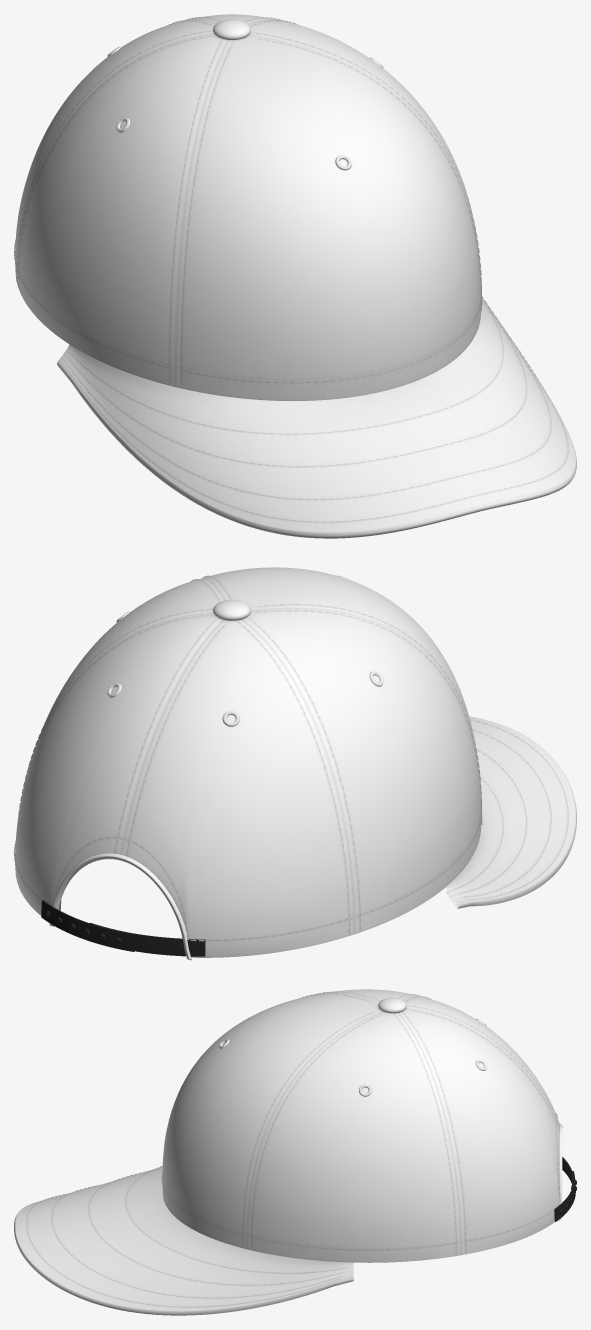
File: gomos-5-6.glb
The picture shows the model from 3 angles, top to bottom: view 1: azimuth 30°, elevation 25°; view 2: azimuth 150°, elevation 25°; view 3: azimuth 270°, elevation 25°; orthographic projection. The views are drawn at different scales.
Visible parts, largest first — view 1: frente, aba, laterais, traseira, costura-aba, aba__beirada, costura-laterais, costura-frente, costura-traseira; view 2: traseira, laterais, aba, frente, fixo__regulador, costura-traseira, costura-laterais, costura-aba, traseira__vies, aba__beirada, botao, costura-frente; view 3: laterais, aba, frente, traseira, costura-aba, aba__beirada, costura-laterais, costura-traseira, costura-frente, fixo__regulador.
Boxes of the visible parts, bbox=[...] form: frente: bbox=[175, 35, 480, 400]; aba: bbox=[58, 300, 575, 533]; laterais: bbox=[18, 20, 480, 386]; traseira: bbox=[15, 14, 276, 285]; costura-aba: bbox=[68, 296, 568, 523]; aba__beirada: bbox=[57, 361, 576, 538]; costura-laterais: bbox=[18, 20, 482, 381]; costura-frente: bbox=[180, 38, 481, 384]; costura-traseira: bbox=[14, 17, 280, 281]; traseira: bbox=[15, 613, 354, 957]; laterais: bbox=[31, 578, 480, 933]; aba: bbox=[446, 716, 575, 903]; frente: bbox=[202, 567, 480, 796]; fixo__regulador: bbox=[41, 900, 205, 956]; costura-traseira: bbox=[14, 614, 352, 941]; costura-laterais: bbox=[22, 579, 482, 930]; costura-aba: bbox=[453, 719, 568, 900]; traseira__vies: bbox=[49, 853, 191, 960]; aba__beirada: bbox=[457, 775, 576, 908]; botao: bbox=[213, 599, 250, 620]; costura-frente: bbox=[202, 575, 481, 819]; laterais: bbox=[247, 989, 460, 1262]; aba: bbox=[15, 1167, 353, 1311]; frente: bbox=[162, 993, 382, 1249]; traseira: bbox=[398, 996, 559, 1255]; costura-aba: bbox=[26, 1166, 346, 1307]; aba__beirada: bbox=[14, 1215, 353, 1315]; costura-laterais: bbox=[249, 991, 458, 1254]; costura-traseira: bbox=[402, 996, 560, 1252]; costura-frente: bbox=[161, 993, 372, 1245]; fixo__regulador: bbox=[554, 1157, 576, 1221].
Bounding box in the file's own units: 1.7 × 1.35 × 2.75.
11 materials, 6 textured.
